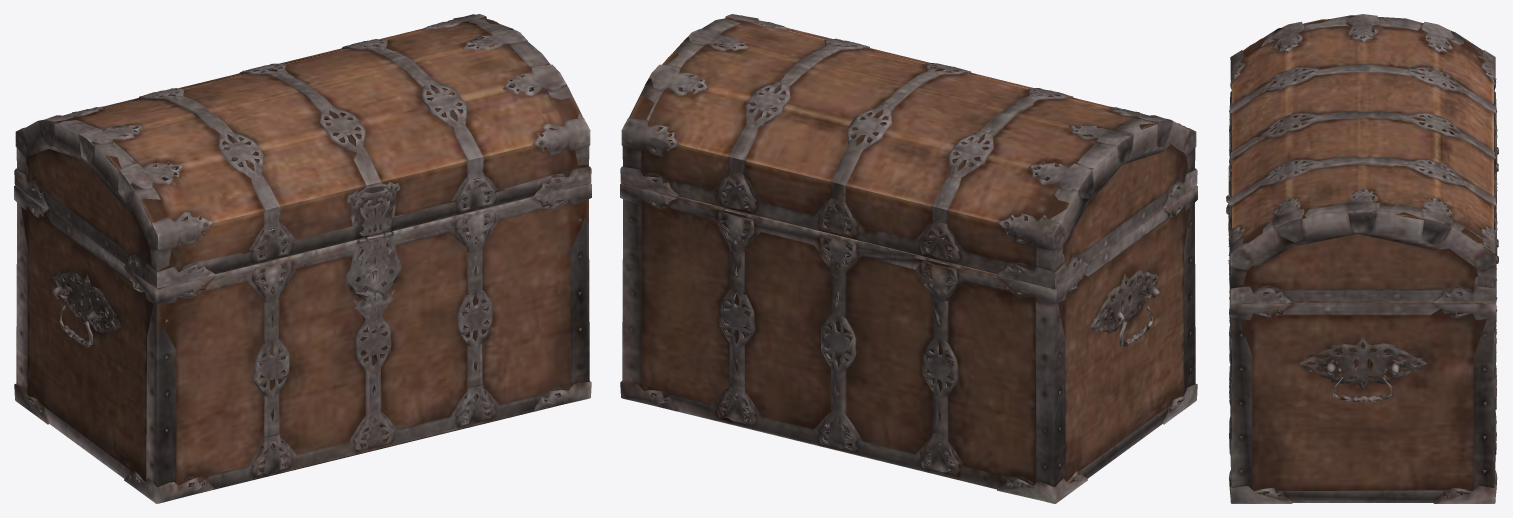
The model's file is treasure_chest.glb.
The picture shows the model from 3 angles, left to right: view 1: azimuth 30°, elevation 25°; view 2: azimuth 150°, elevation 25°; view 3: azimuth 270°, elevation 25°; orthographic projection. The views are drawn at different scales.
Visible parts, largest first — view 1: treasure_chest_bottom, treasure_chest_lid, treasure_chest_lock; view 2: treasure_chest_bottom, treasure_chest_lid; view 3: treasure_chest_lid, treasure_chest_bottom, treasure_chest_handle_right.
Part boxes in pixels (x1,y1,x2,y2): treasure_chest_bottom: [14, 183, 591, 503]; treasure_chest_lid: [14, 14, 591, 288]; treasure_chest_lock: [348, 233, 400, 322]; treasure_chest_bottom: [620, 183, 1197, 503]; treasure_chest_lid: [620, 14, 1197, 288]; treasure_chest_lid: [1226, 14, 1498, 303]; treasure_chest_bottom: [1229, 132, 1498, 503]; treasure_chest_handle_right: [1320, 367, 1405, 401].
Size of the model in its own units: 0.9605 by 0.6183 by 0.5225.
1 material, 1 textured.
